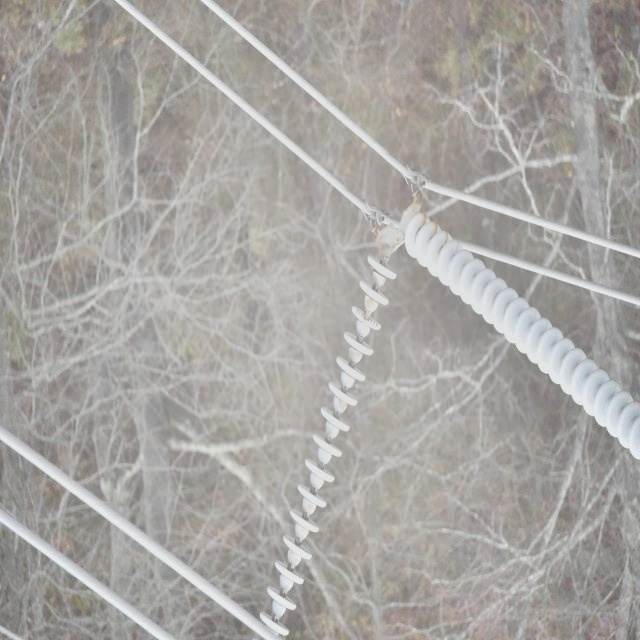broken: (352, 304, 380, 332)
insulator: (405, 208, 640, 463), (255, 253, 398, 638)
